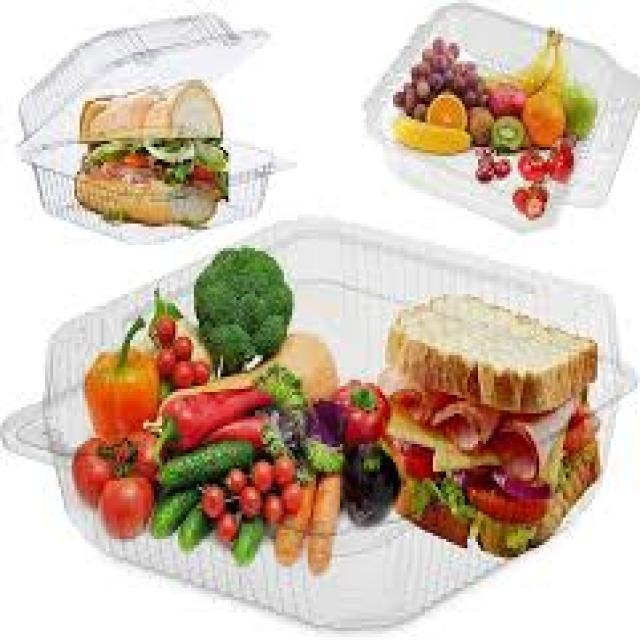disposable: (36, 202, 634, 640)
